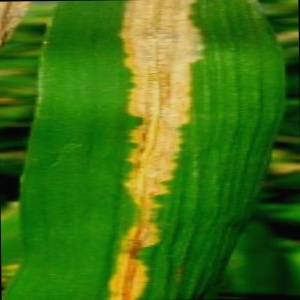Leaf_Blast: (15, 1, 276, 300)
